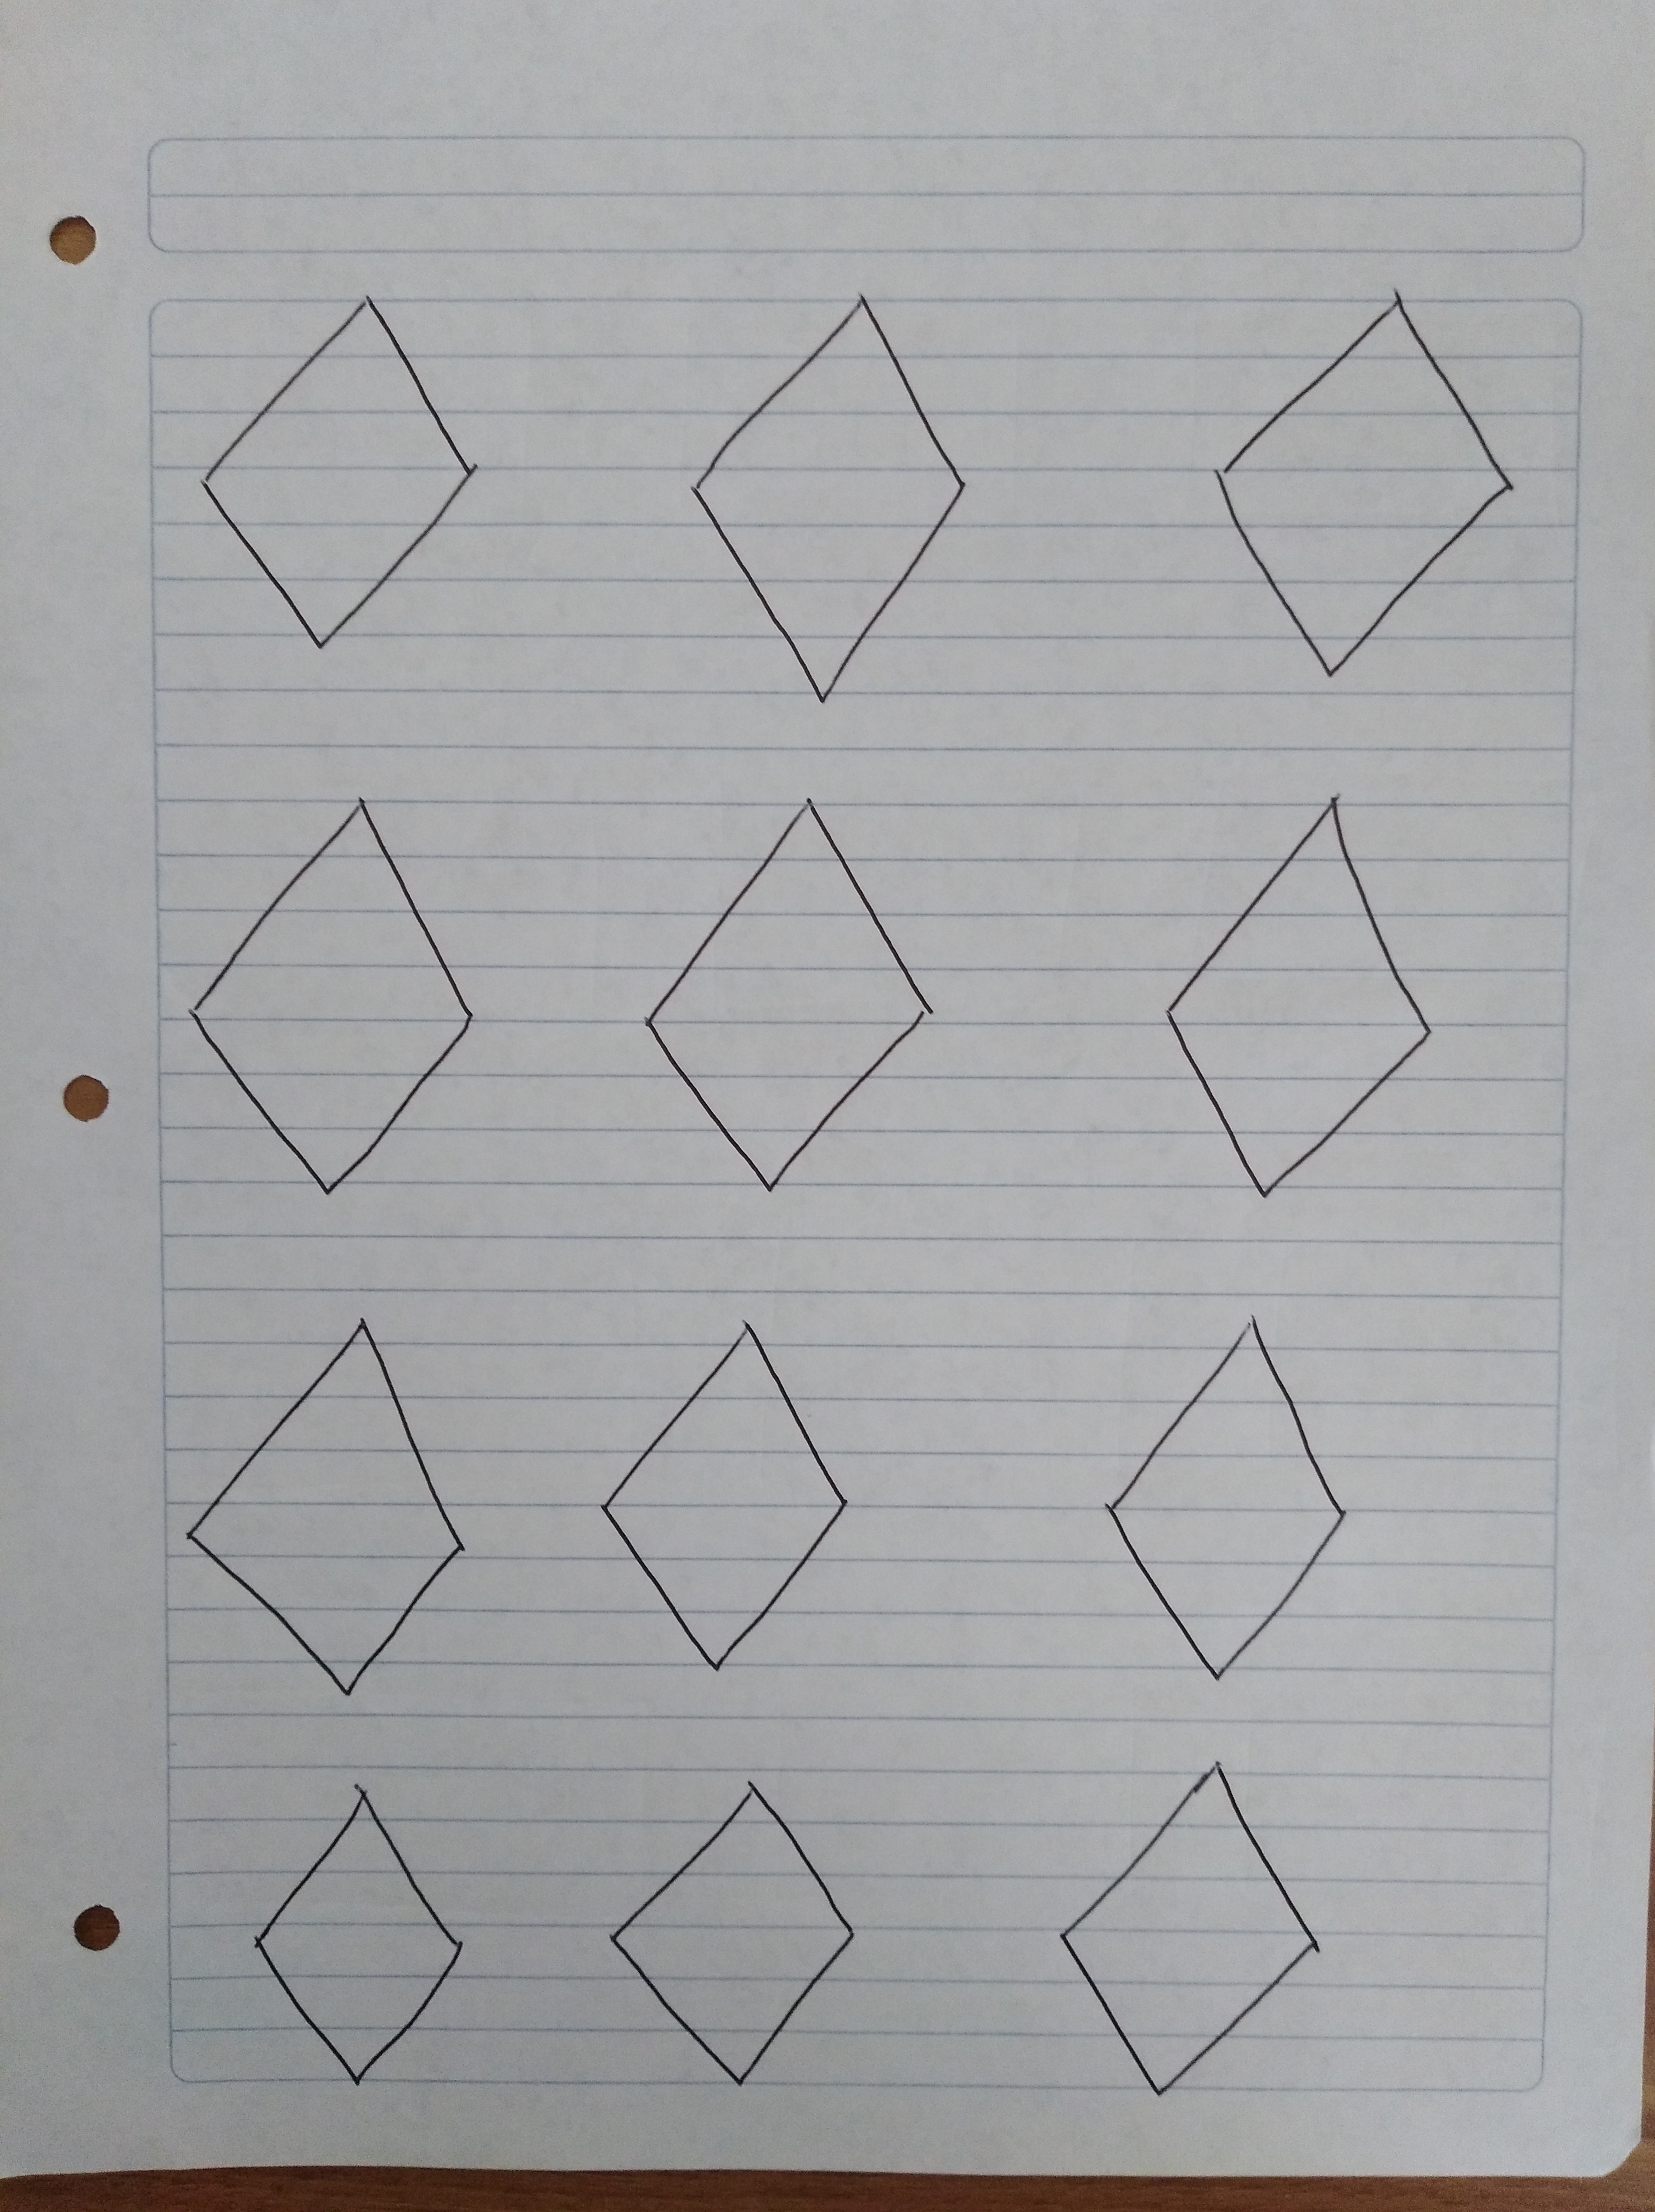decision: (647, 236, 986, 738), (1184, 245, 1525, 719), (1127, 768, 1460, 1215), (170, 773, 499, 1220), (626, 773, 946, 1225), (169, 245, 495, 679), (165, 1288, 495, 1717), (575, 1279, 864, 1712), (1085, 1288, 1372, 1708), (1024, 1745, 1347, 2113), (202, 1764, 523, 2099), (593, 1752, 887, 2103)
